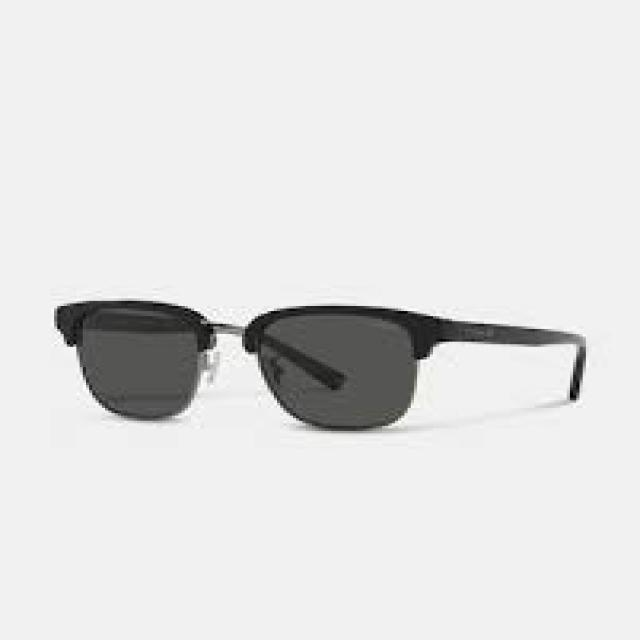sunglasses: (48, 291, 446, 431)
